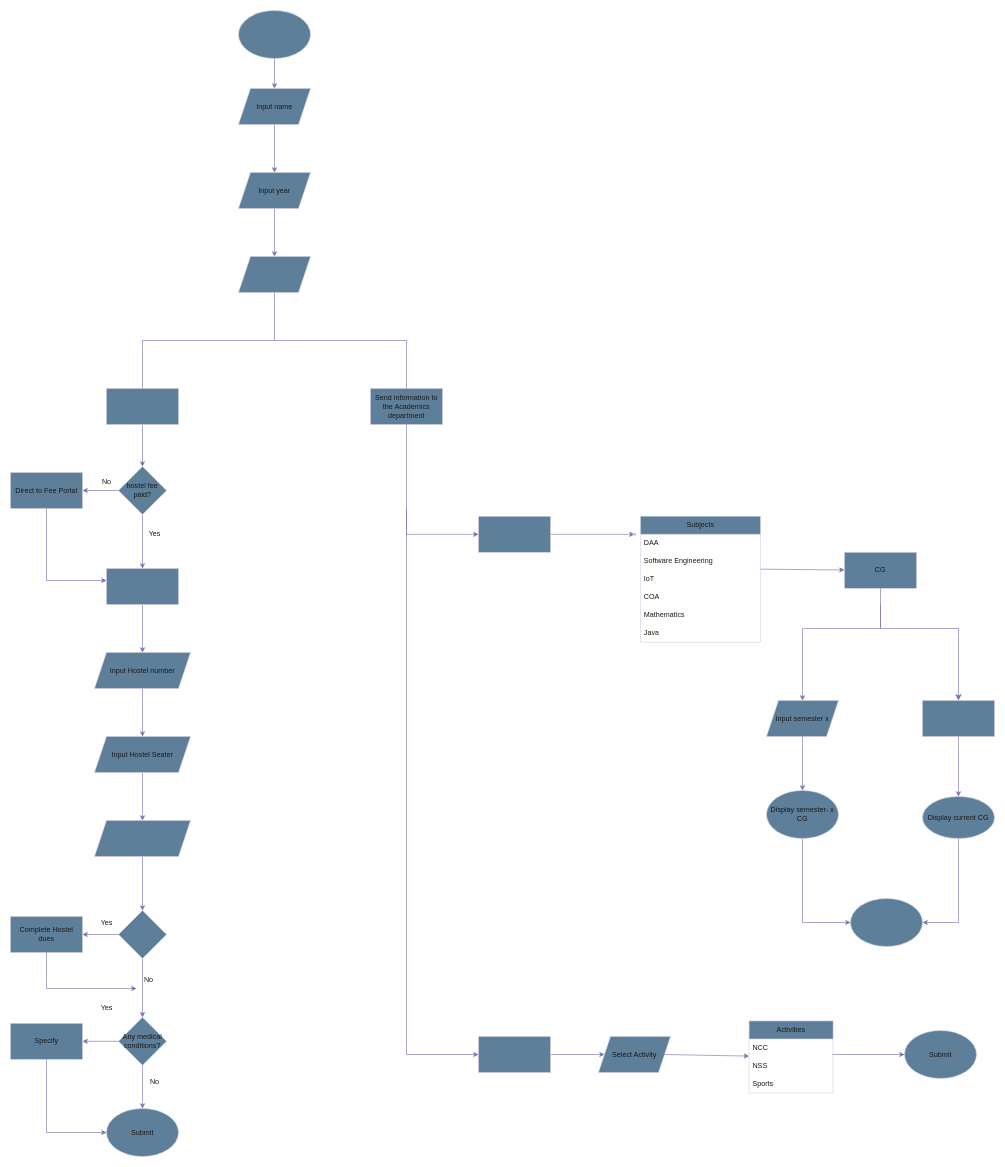
This 1005x1167 diagram has some shape labels left out. Each missing label, with the centre of its shape:
"Current CG" belongs at (958,718).
"Curricular" belongs at (514,534).
"End" belongs at (886,922).
"Extra-curricular" belongs at (514,1054).
"Hostel Dues?" belongs at (142,934).
"Hostel Registration form" belongs at (142,586).
"Input roll number" belongs at (274,274).
"Input Room number" belongs at (142,838).
"Send information to Hostel asministration" belongs at (142,406).
"Student" belongs at (274,34).
